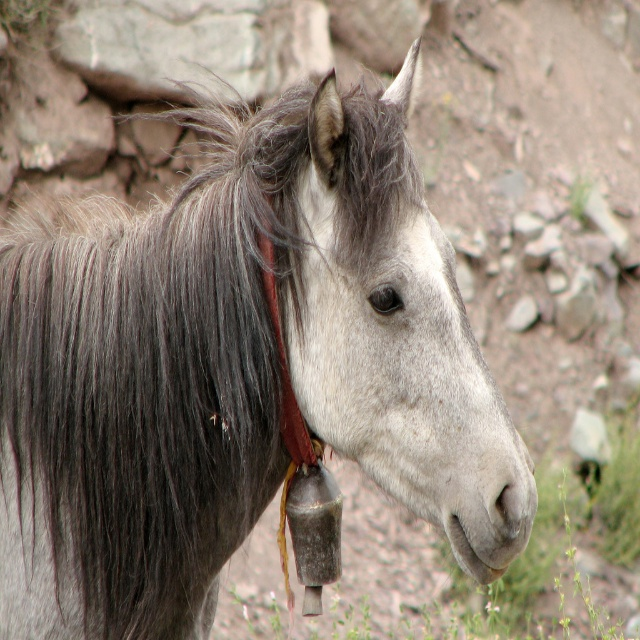Horse: (0, 32, 541, 639)
